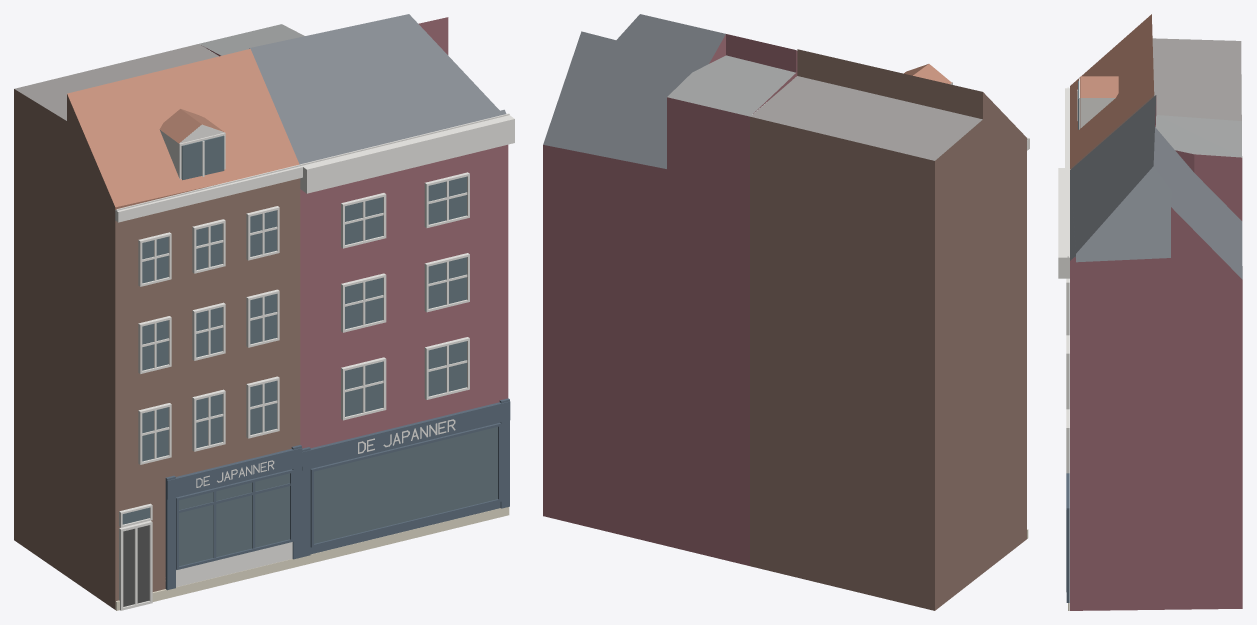
File: chunk-bilder-152363-x2.glb
3 renders of one model, left to right at view 1: azimuth 30°, elevation 25°; view 2: azimuth 150°, elevation 25°; view 3: azimuth 270°, elevation 25°, orthographic. The views are drawn at different scales.
Parts seen in each view (by area): view 1: bilder-152363-x2; view 2: bilder-152363-x2; view 3: bilder-152363-x2.
Part boxes in pixels (box(x1,y1,x2,y2)): bilder-152363-x2: box(14, 14, 514, 610); bilder-152363-x2: box(543, 14, 1029, 610); bilder-152363-x2: box(1058, 14, 1242, 610).
Size of the model in its own units: 13.82 by 16.06 by 6.28.
